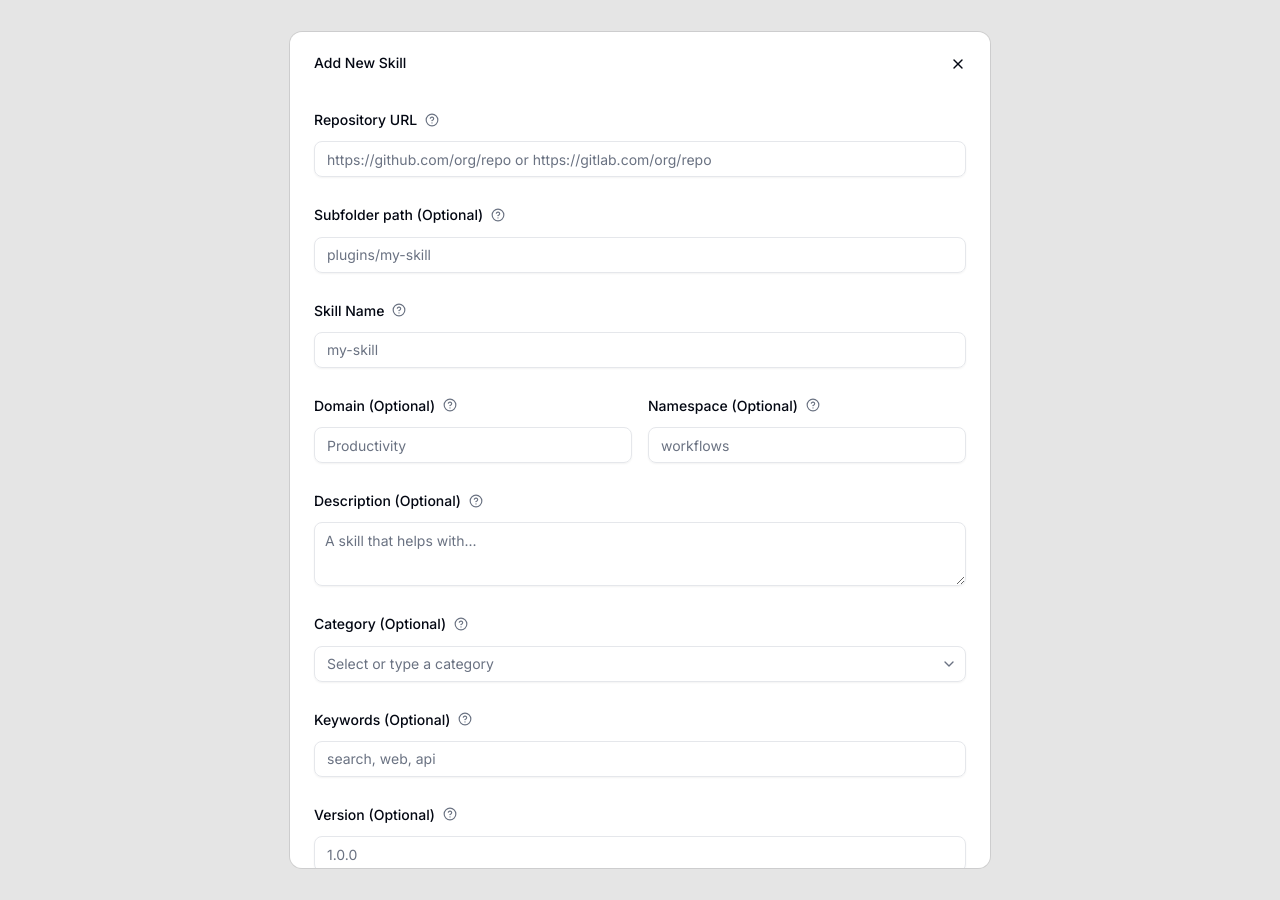
AddPluginForm › shows a raw url preview for a non-github host
Type "https://gitlab.com/group/repo" into the field with placeholder "https://github.com/org/repo or https://gitlab.com/org/repo". click: coordinates (640, 159)
box: x1=314 y1=141 x2=966 y2=177
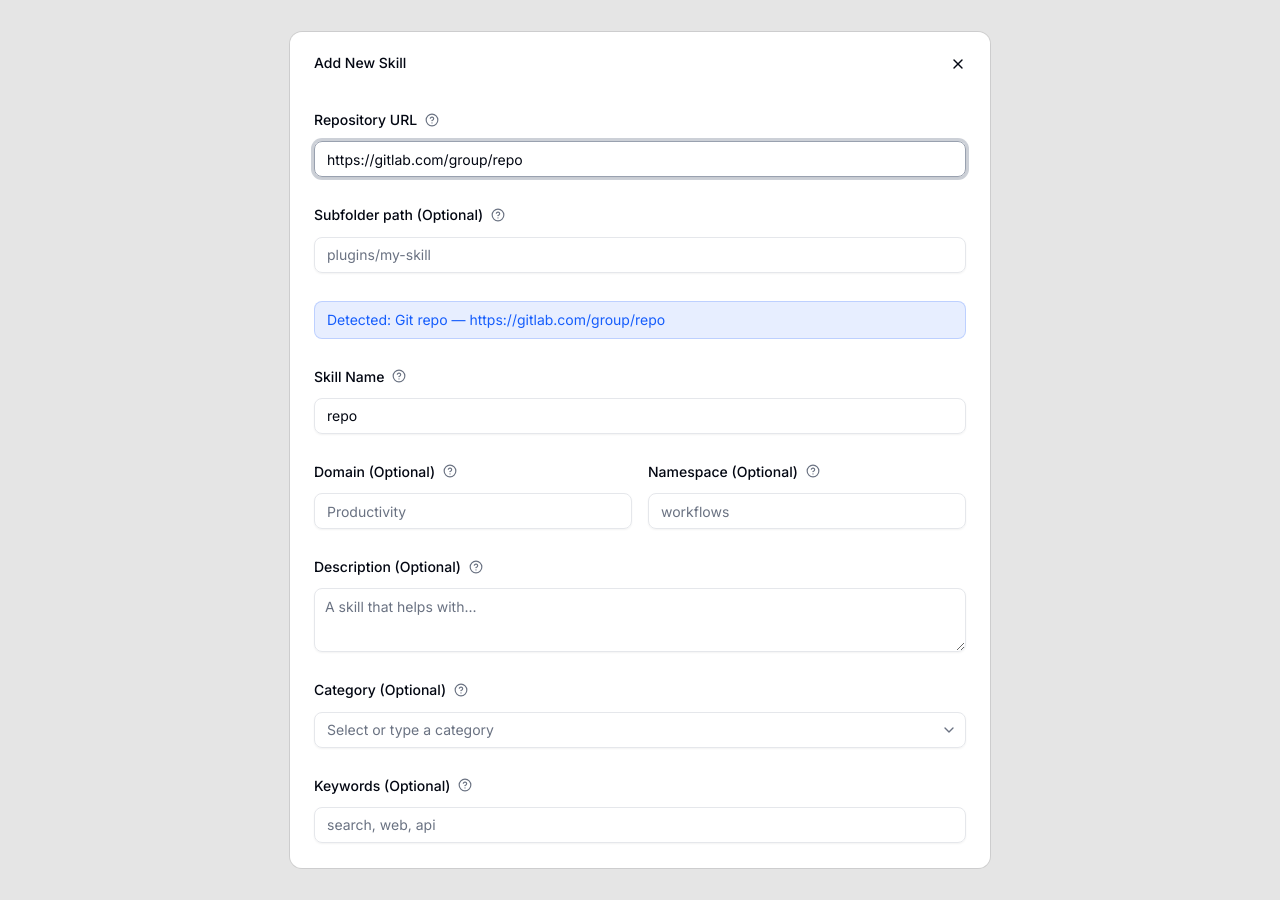
Expected: the field with placeholder "plugins/my-skill" is enabled, x1=314 y1=236 x2=966 y2=272
Now the text "Detected: Git repo — https://gitlab.com/group/repo" is shown, box x1=314 y1=300 x2=966 y2=338
